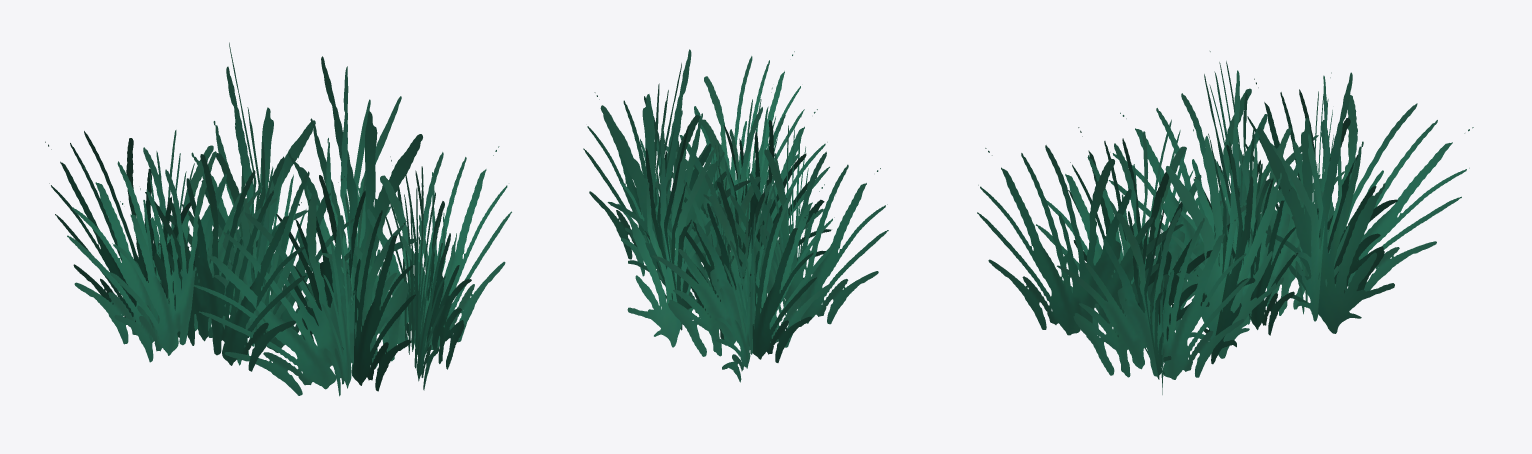
File: grassWeed2.obj
3 views of the same model, side by side, from view 1: azimuth 30°, elevation 25°; view 2: azimuth 150°, elevation 25°; view 3: azimuth 270°, elevation 25° (orthographic). The views are drawn at different scales.
Visible parts, largest first — view 1: Plane.017_Plane.050; view 2: Plane.017_Plane.050; view 3: Plane.017_Plane.050.
Boxes of the visible parts, box(x1,y1,x2,y2) form: Plane.017_Plane.050: box(45, 42, 511, 396); Plane.017_Plane.050: box(583, 49, 888, 382); Plane.017_Plane.050: box(977, 51, 1473, 394).
Size of the model in its own units: 3.81 by 2.85 by 4.49.
